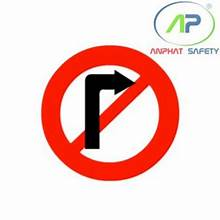No_turn_right: (38, 44, 183, 184)
